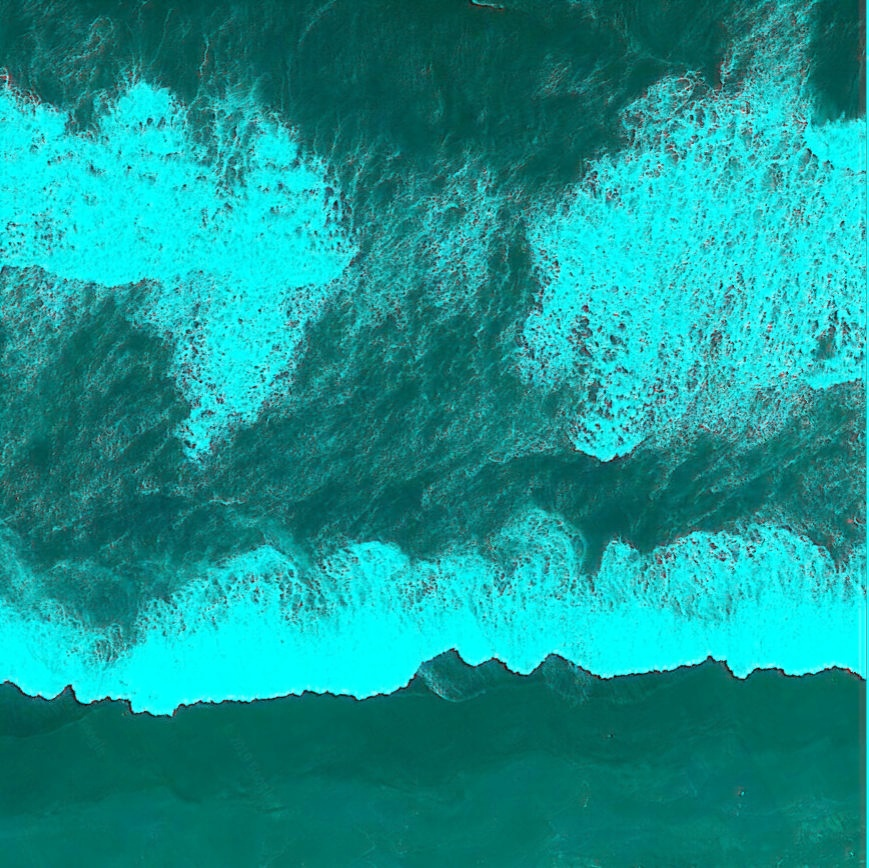rip_current: (224, 86, 602, 561)
